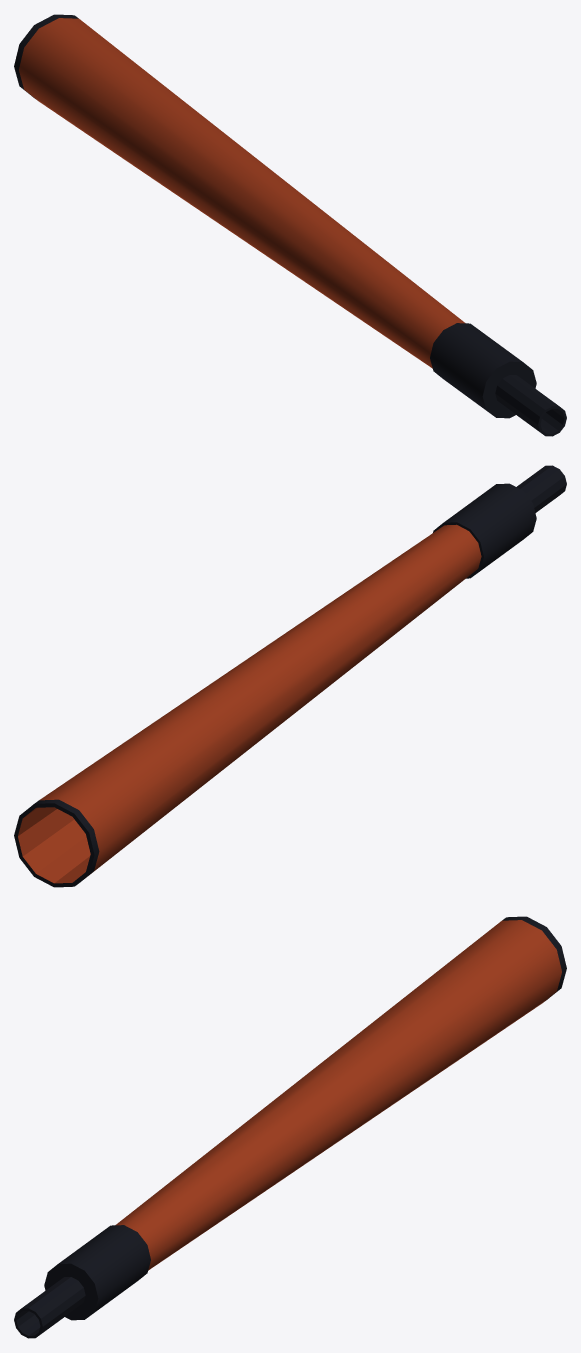
Rendered from Instrument3.fbx.
3 views of the same model, one above another, from view 1: azimuth 30°, elevation 25°; view 2: azimuth 150°, elevation 25°; view 3: azimuth 330°, elevation 25° (orthographic).
Parts seen in each view (by area): view 1: Instrument003; view 2: Instrument003; view 3: Instrument003.
Boxes of the visible parts, box(x1,y1,x2,y2) form: Instrument003: box(14, 14, 566, 436); Instrument003: box(14, 465, 566, 887); Instrument003: box(14, 916, 566, 1338).
Bounding box in the file's own units: 6.43 × 6.43 × 68.92.
